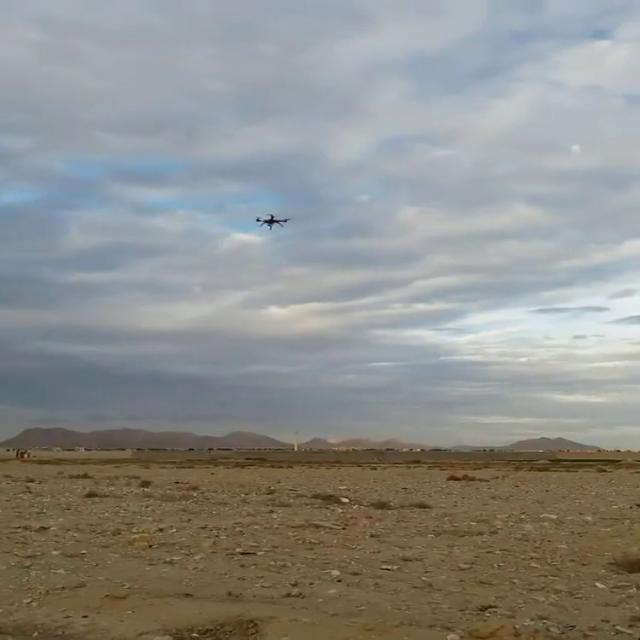drone: (244, 210, 294, 234)
